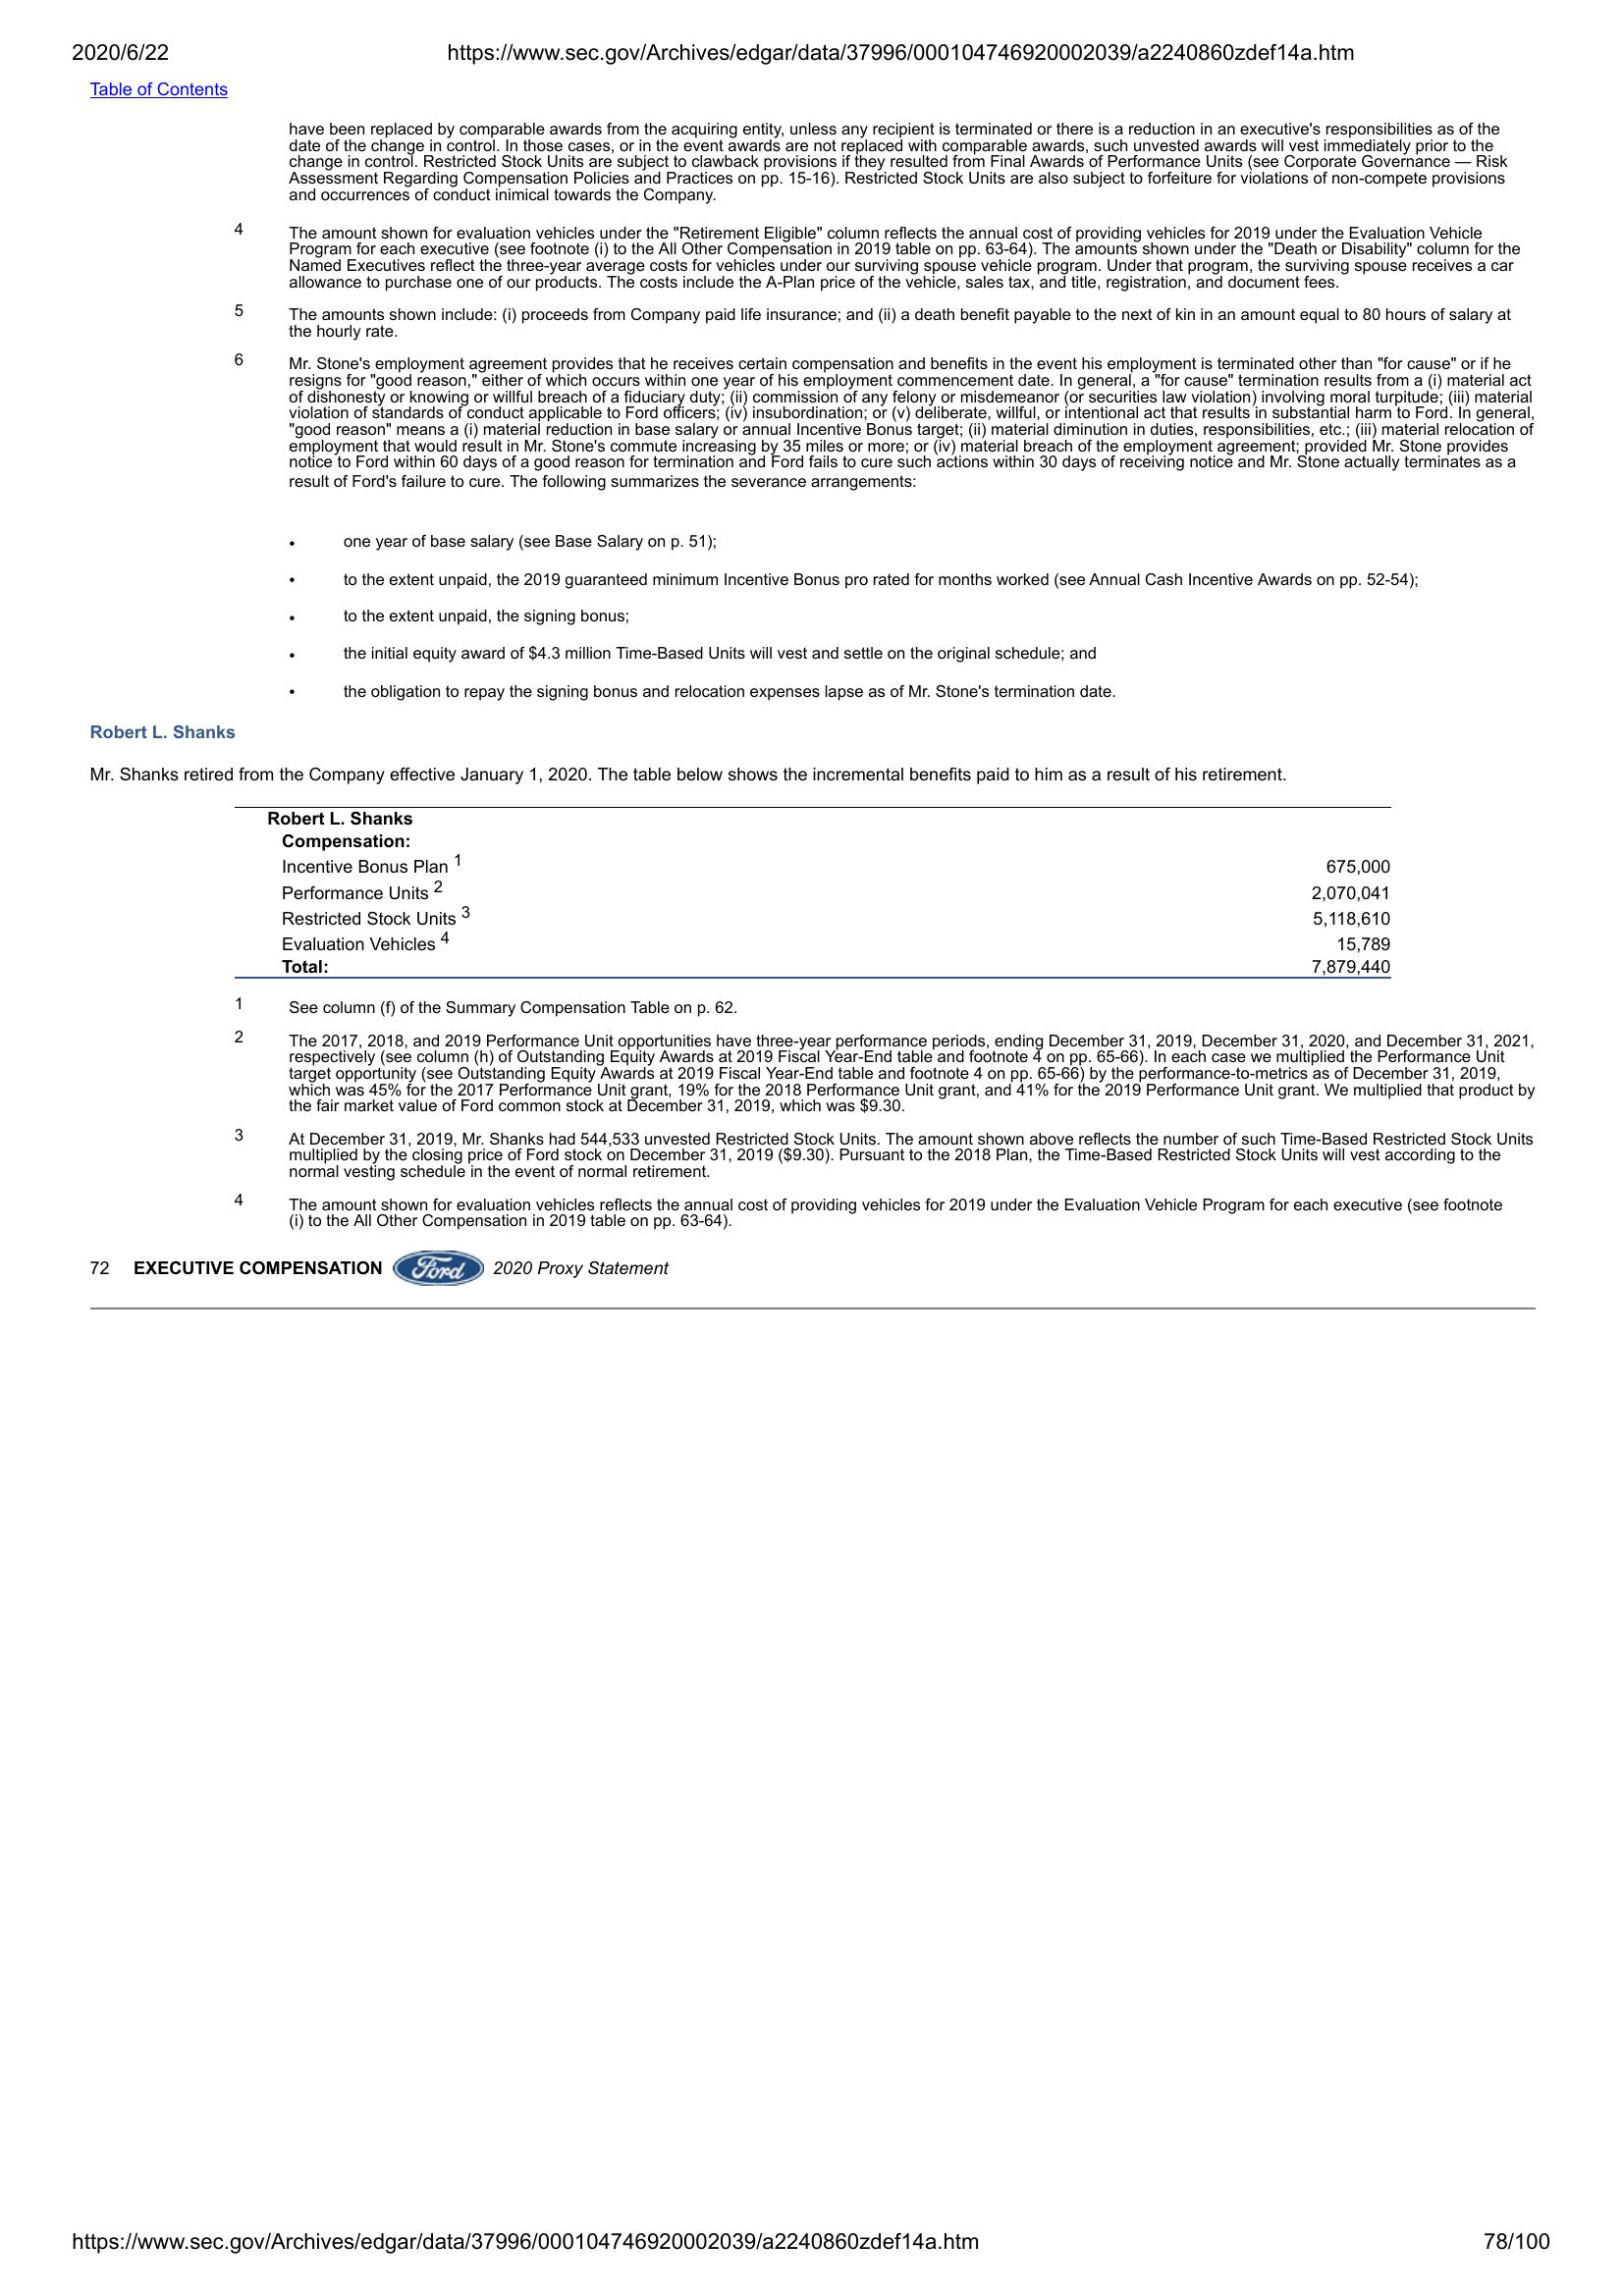table: (232, 800, 1402, 985)
